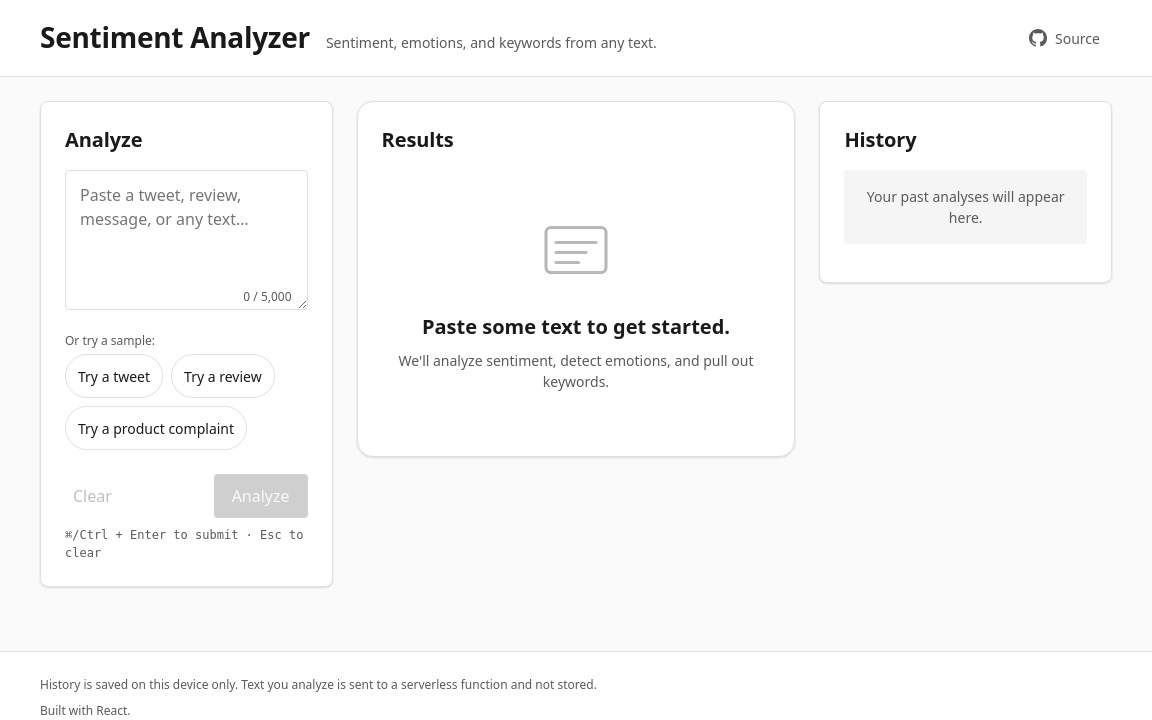
App: history persistence (regression catcher) › adds exactly one history entry per successful submit
The width and height of the screenshot is (1152, 720).
Type "I love this product, it is amazing" into the text box named "Text to analyze".
click(186, 240); type("I love this product, it is amazing")  # box [65, 170, 308, 310]
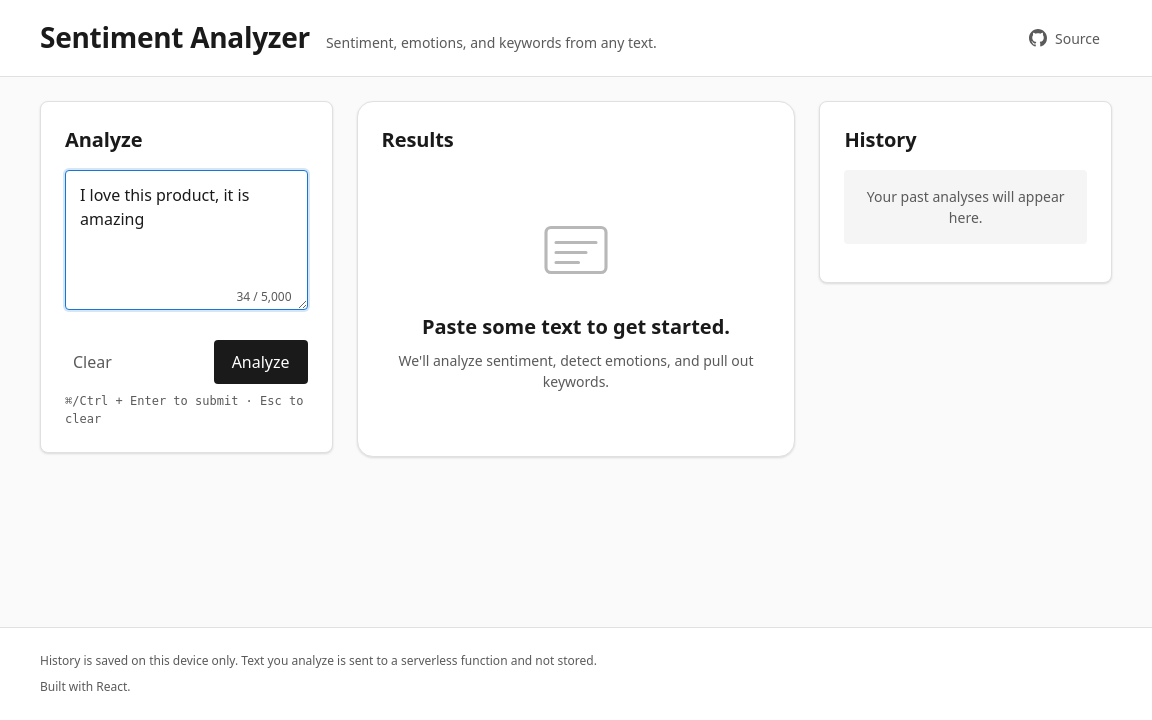
Click the button "Analyze".
click(261, 362)  # box [214, 340, 308, 384]
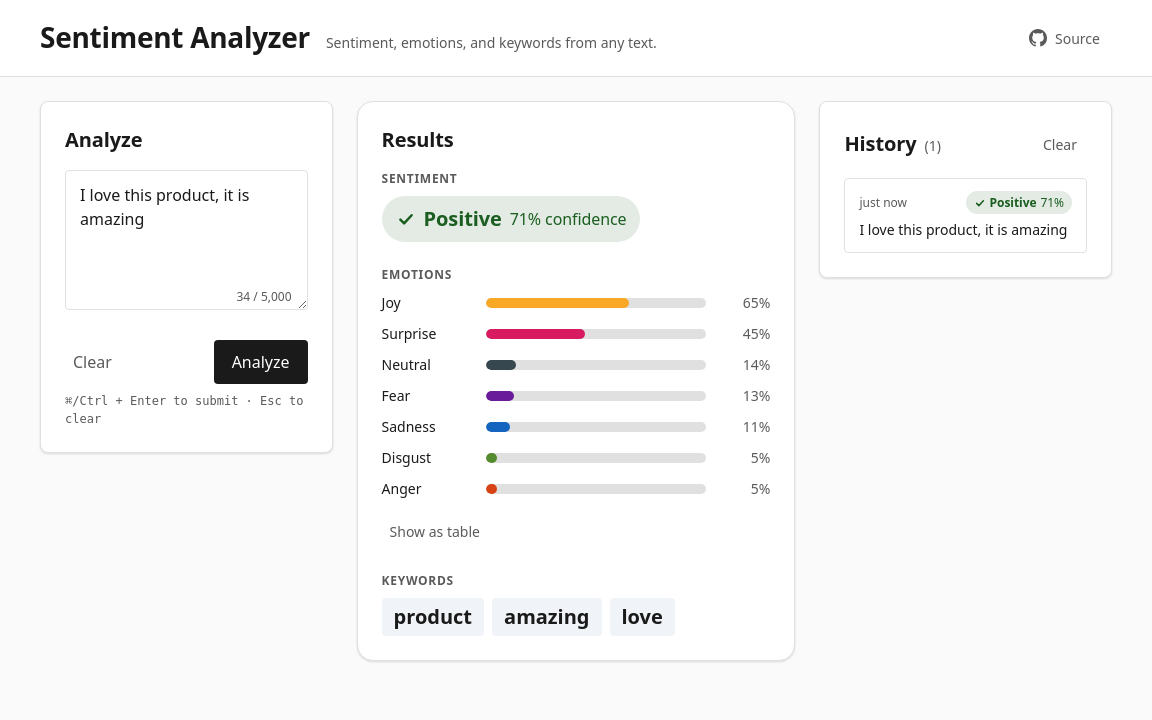
Result: the text "Your past analyses will appear here" is gone
Result: the number of list items is 1 at [844, 178, 1087, 253]
